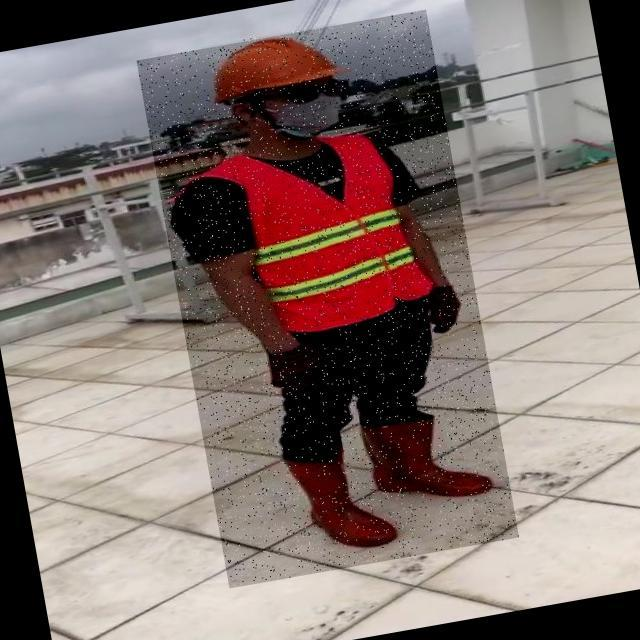Gloves: (267, 342, 335, 394), (430, 284, 464, 335)
Helmet: (201, 23, 348, 108)
Human: (137, 9, 520, 588)
Safety Boot: (362, 403, 495, 512), (287, 441, 398, 560)
Safety Vest: (233, 125, 432, 337)
